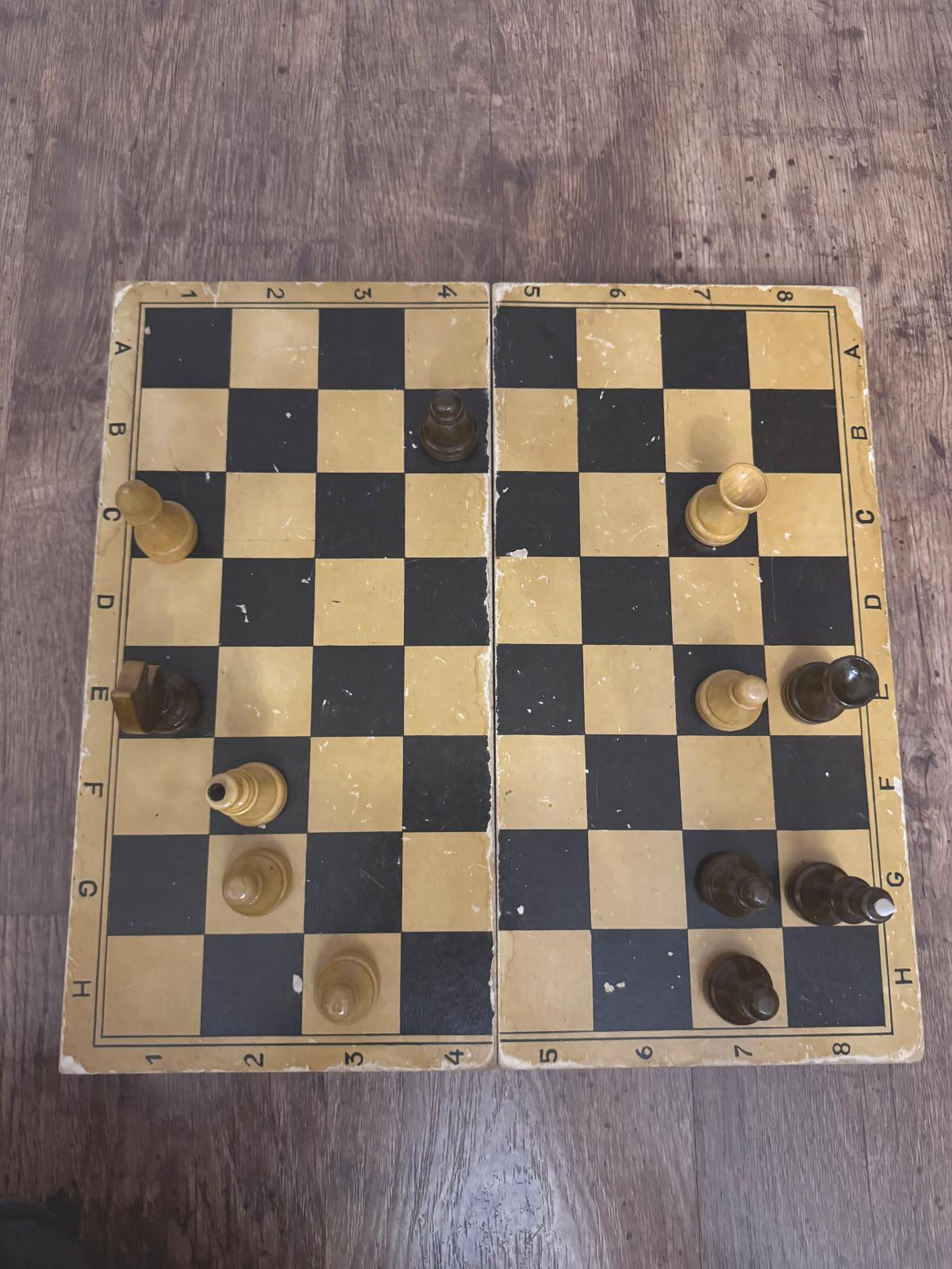Chess-Board: (102, 308, 884, 1037)
